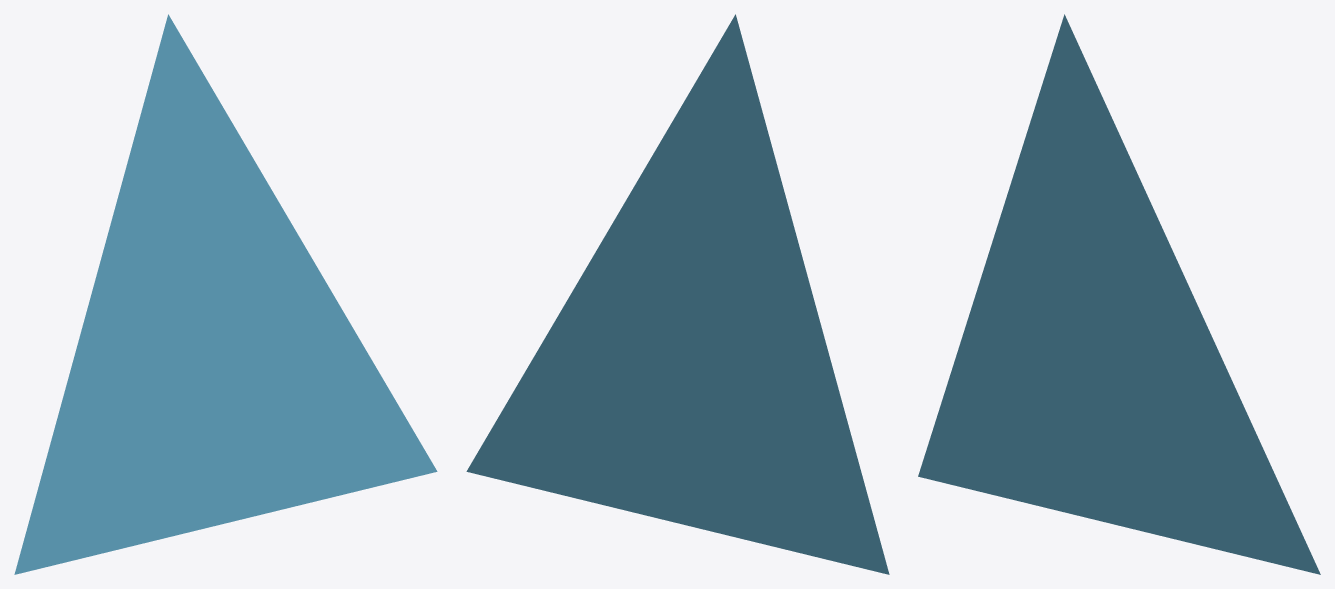
The model's file is node-query.gltf.
3 views of the same model, side by side, from view 1: azimuth 30°, elevation 25°; view 2: azimuth 150°, elevation 25°; view 3: azimuth 330°, elevation 25° (orthographic). The views are drawn at different scales.
Visible parts, largest first — view 1: Panel; view 2: Panel; view 3: Panel.
Boxes of the visible parts, x1=… form: Panel: x1=14, y1=14, x2=437, y2=574; Panel: x1=466, y1=14, x2=889, y2=574; Panel: x1=918, y1=14, x2=1320, y2=574.
Bounding box in the file's own units: 1.1 × 1.3 × 0.
